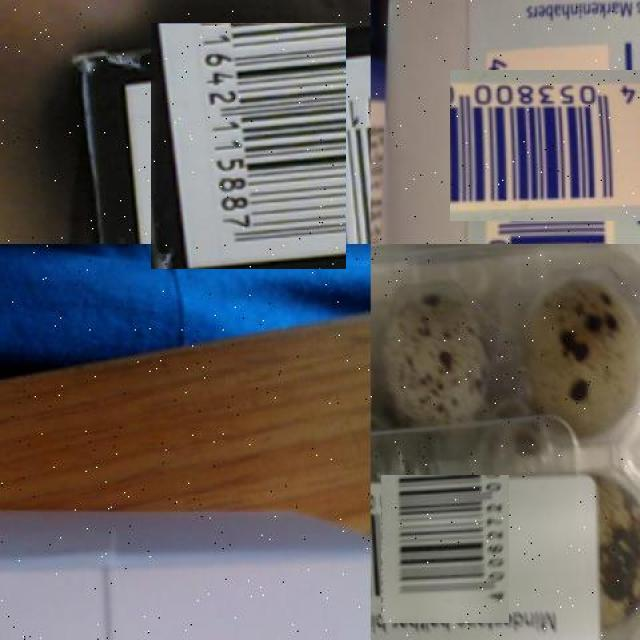Barcode: (138, 35, 358, 256), (461, 59, 635, 233), (376, 480, 515, 619)
